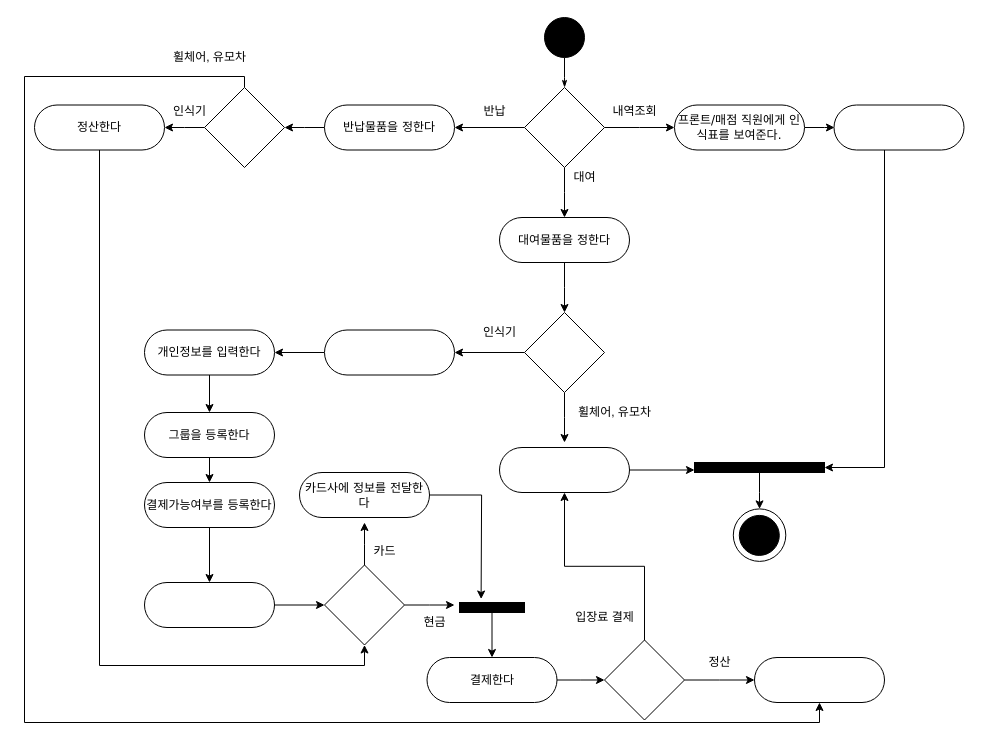
This 982x748 diagram has some shape labels left out. Here are the shapes that lost their labels. From the top down, the centre of each, then its label:
At pixel 898 127: "결제내역을 조회한다".
At pixel 389 352: "인식기를 등록한다".
At pixel 564 469: "대여한다".
At pixel 209 605: "입장료 결제 방식을 정한다".
At pixel 819 679: "반납한다".
